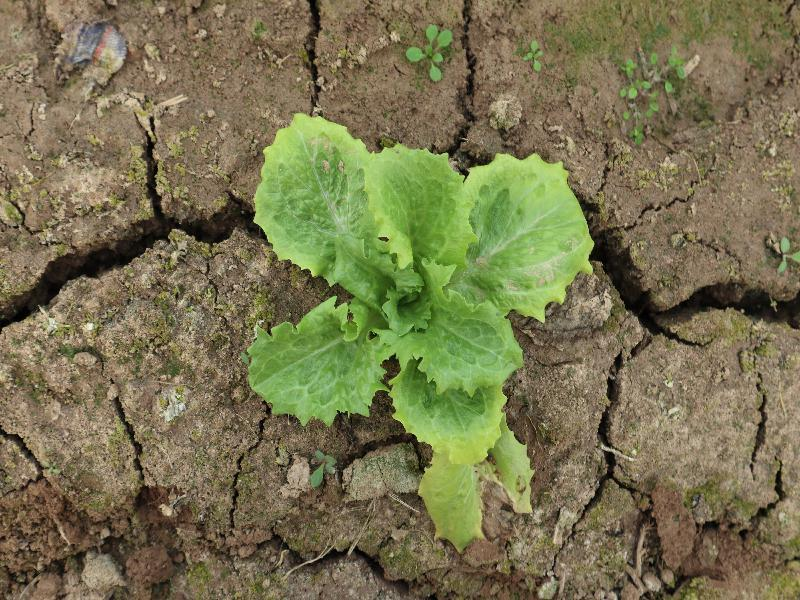lettuce: (247, 110, 590, 552)
